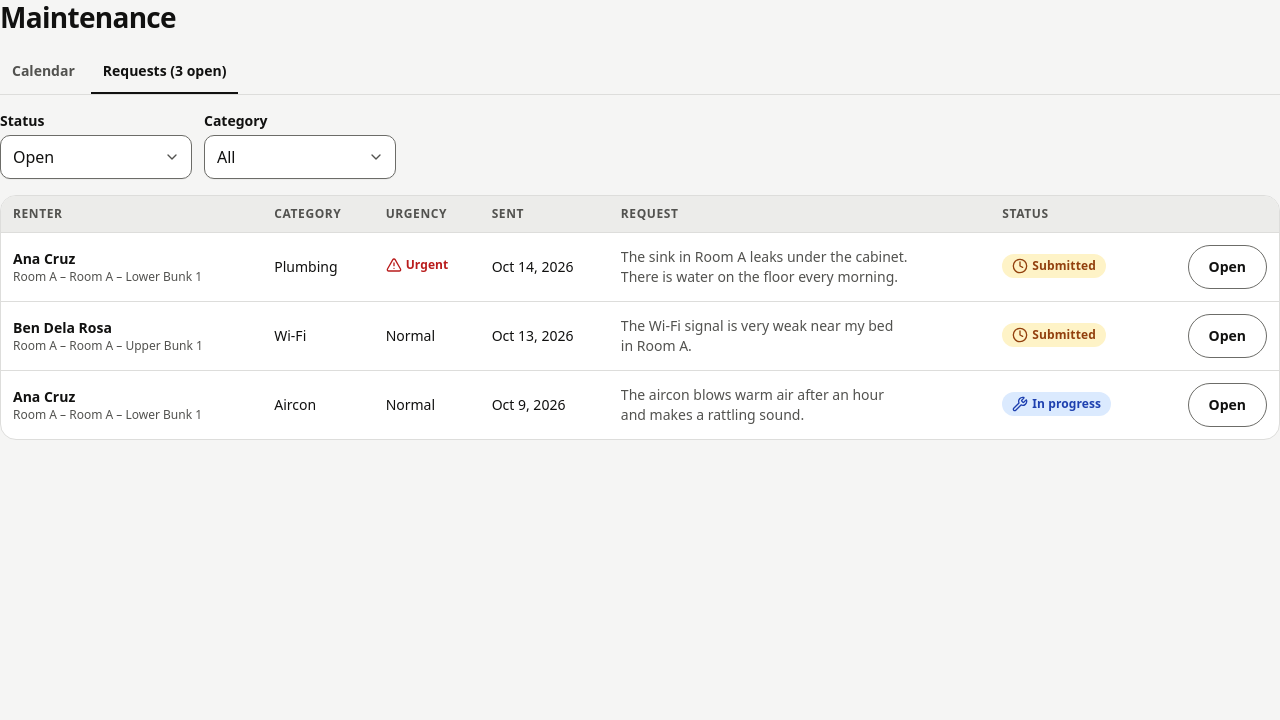
Test: AdminMaintenancePage (F42, R75, BR-19, SC-91) › a 409 closes the request with a toast and the list refetches
Expected: the table named "Maintenance" is shown, [1,196,1279,439]
Click the button with aria-label "Open Aircon request from Ana Cruz".
click(1227, 405)  # box [1188,383,1267,427]
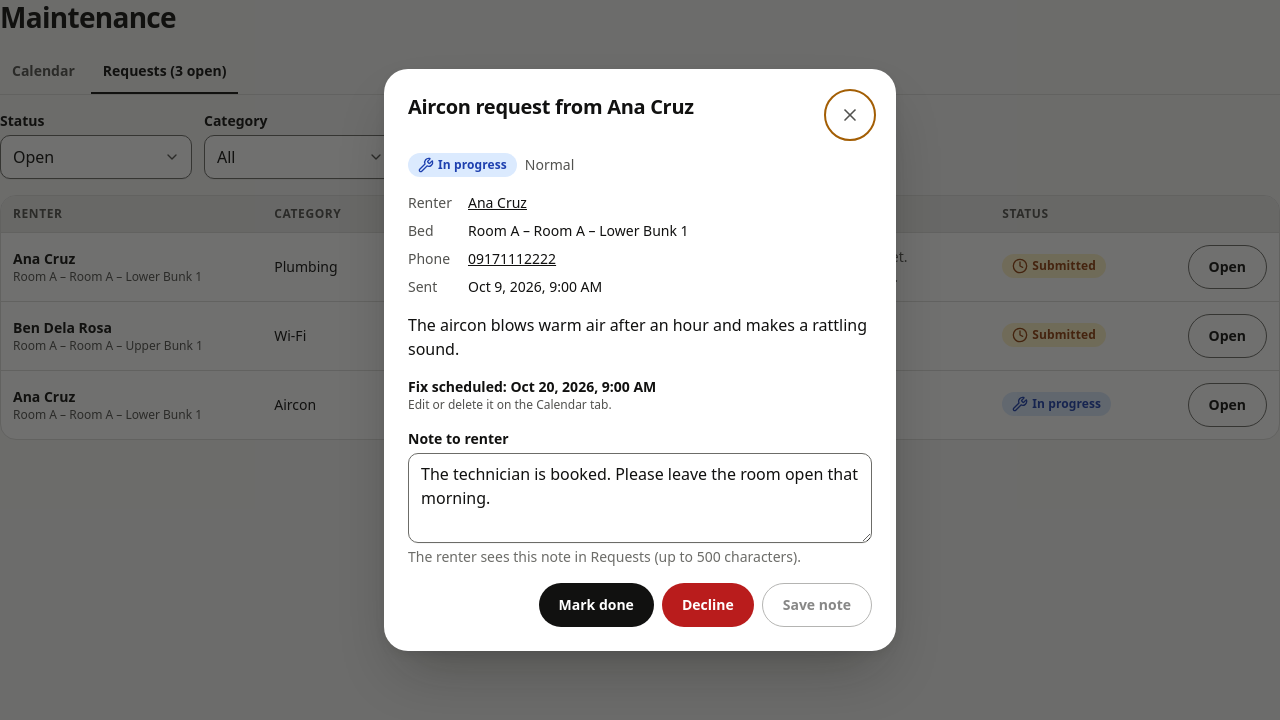
Click the button "Mark done".
click(596, 605)  # box [538,583,654,627]
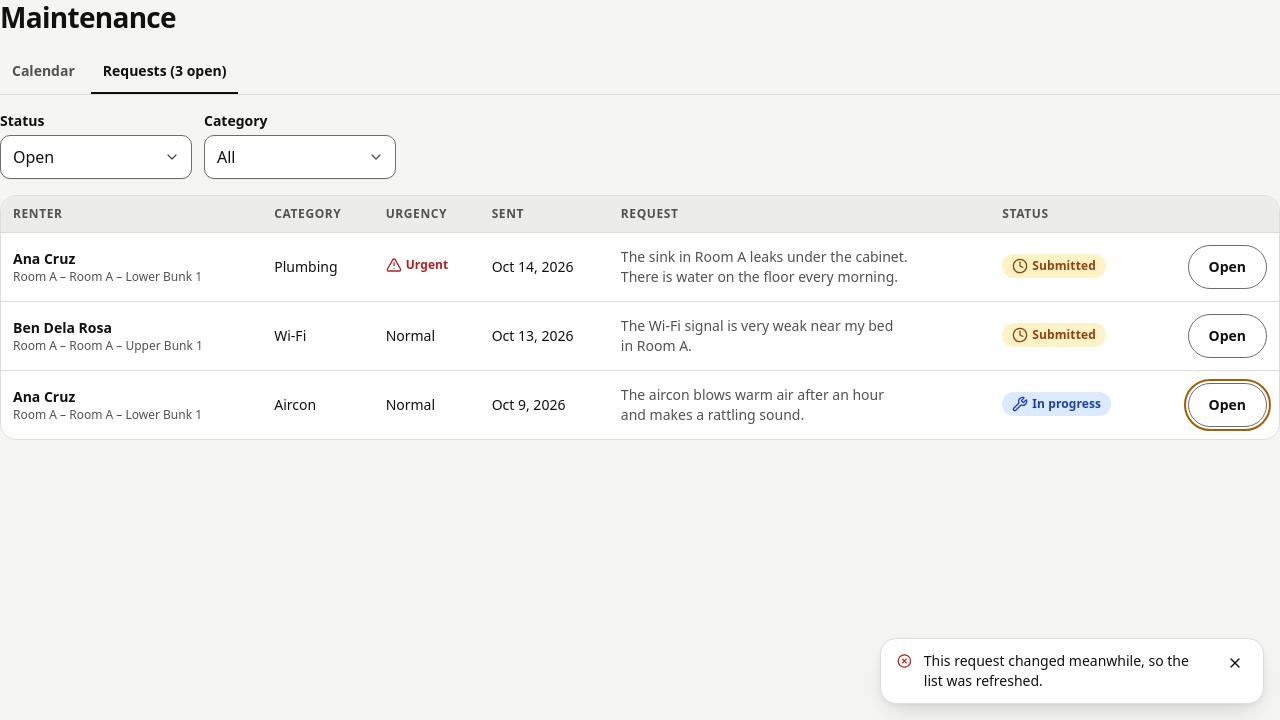
Now the text "This request changed meanwhile, so the list was refreshed." is shown, box [924,651,1211,691]
Now the dialog is gone
